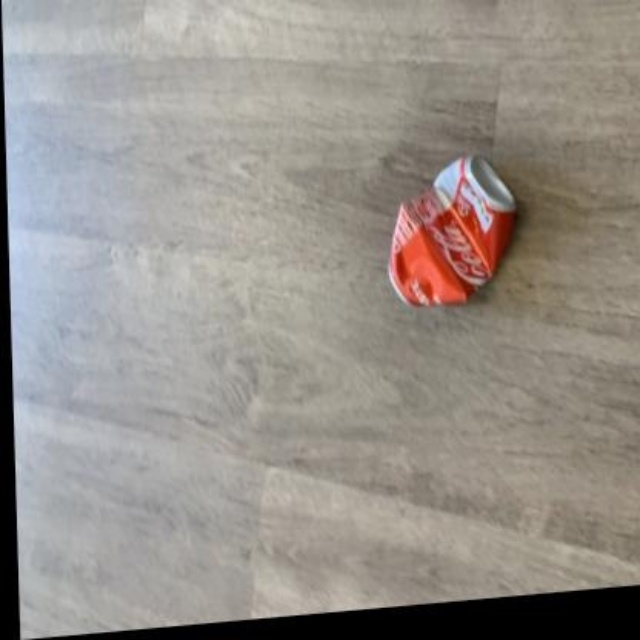trash: (389, 155, 515, 305)
